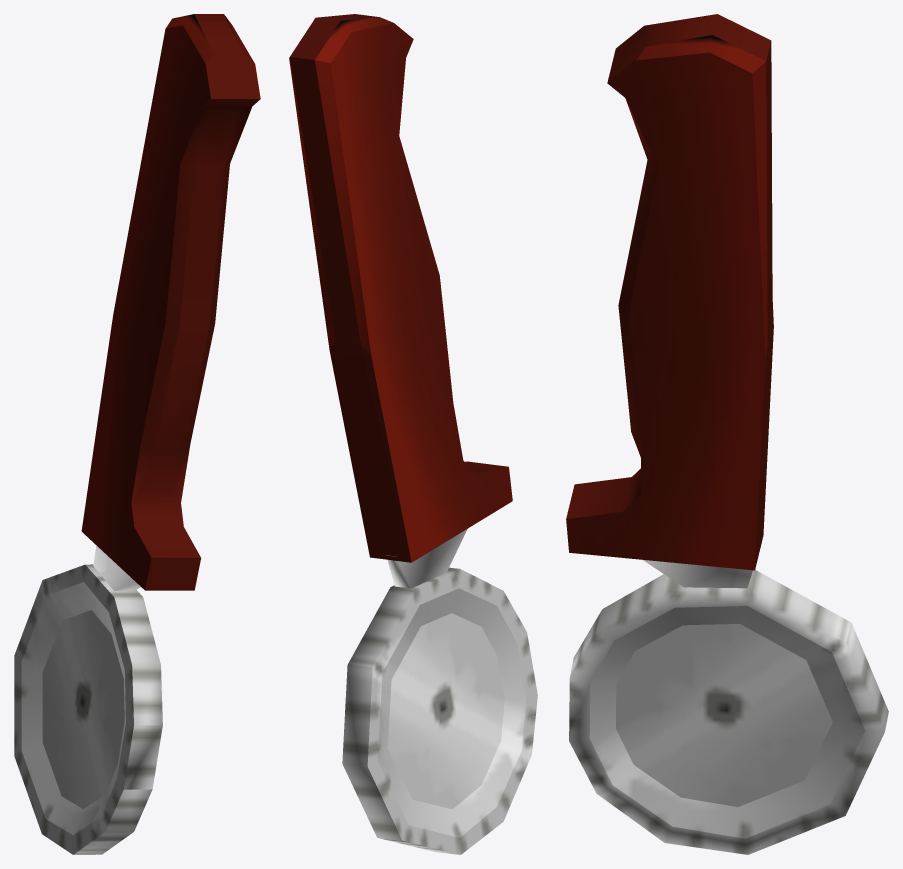
File: H_Pizza_Cutter.fbx
3 renders of one model, left to right at view 1: azimuth 30°, elevation 25°; view 2: azimuth 150°, elevation 25°; view 3: azimuth 270°, elevation 25°, orthographic. The views are drawn at different scales.
Visible parts, largest first — view 1: Pizzacutter; view 2: Pizzacutter; view 3: Pizzacutter.
Boxes of the visible parts, left/top/right/bottom form: Pizzacutter: left=14, top=14, right=260, bottom=854; Pizzacutter: left=289, top=14, right=537, bottom=854; Pizzacutter: left=566, top=14, right=888, bottom=854.
Size of the model in its own units: 11.94 by 51.11 by 16.59.
